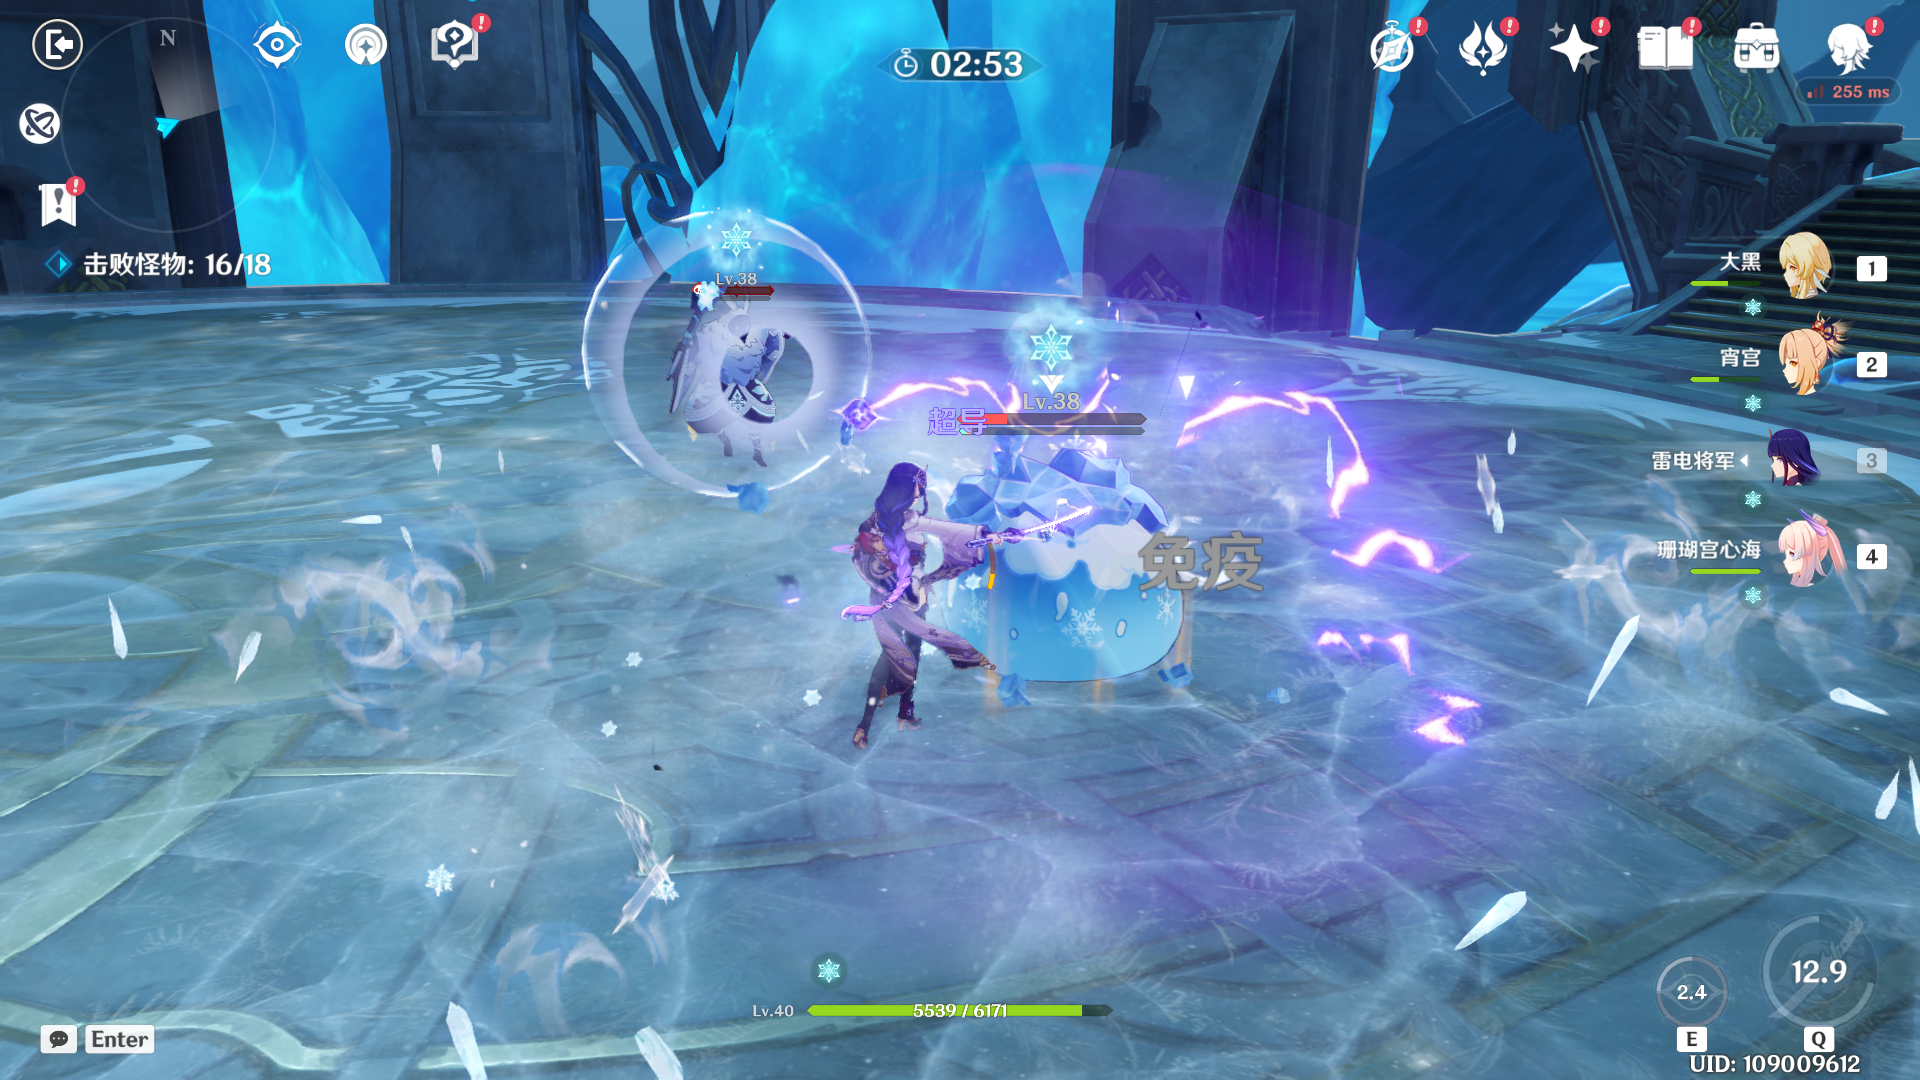caster: (618, 260, 852, 491)
character: (844, 458, 1022, 774)
slime: (909, 414, 1220, 702)
